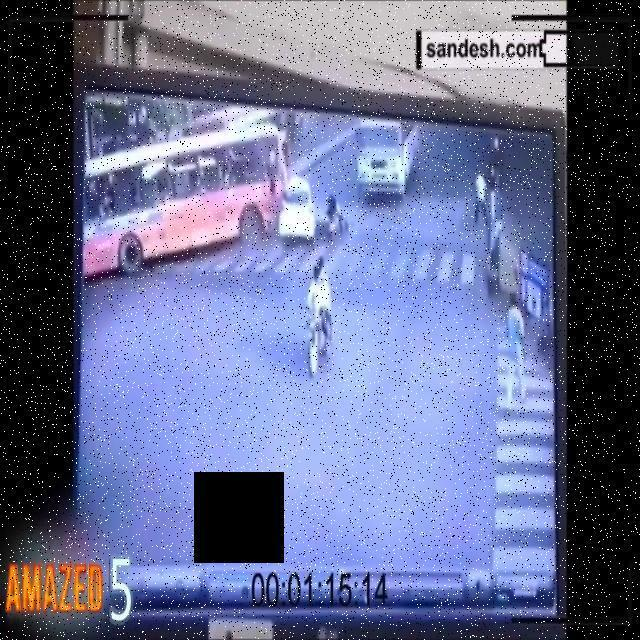accident: (80, 115, 317, 286)
